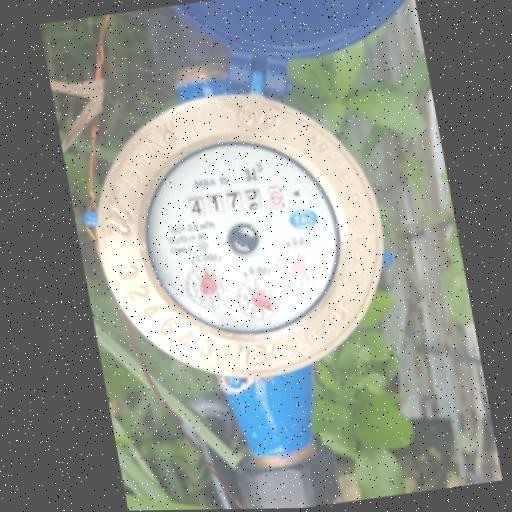1: (208, 193, 225, 217)
4: (188, 197, 207, 219)
5: (246, 188, 263, 212)
6: (268, 184, 285, 209)
7: (227, 191, 243, 213)
border_water_meter_number: (185, 182, 287, 222)
